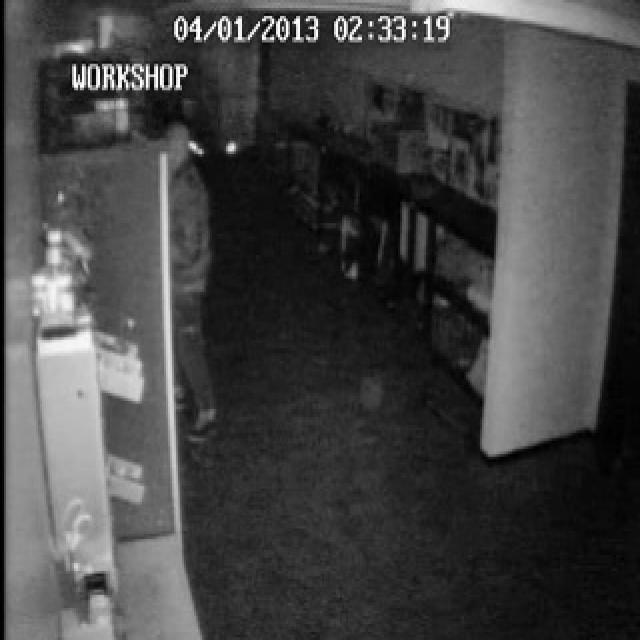thief: (161, 106, 223, 360)
